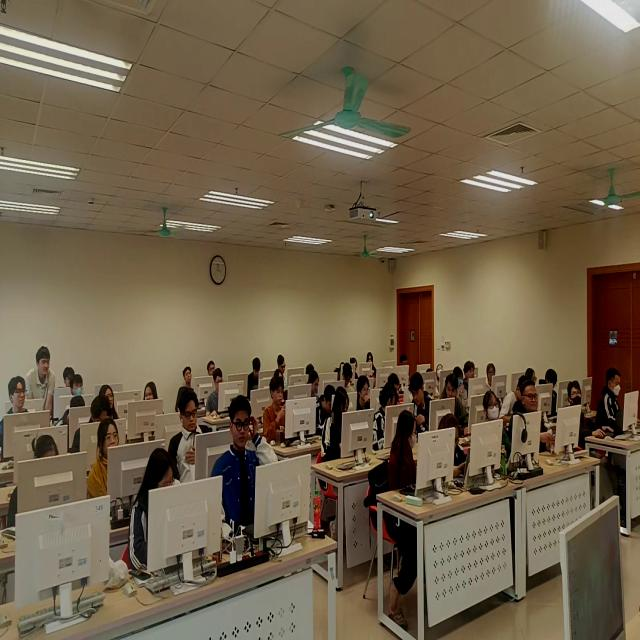raise_hand: (212, 396, 280, 542)
raise_head: (88, 420, 121, 499), (513, 380, 541, 456), (568, 381, 602, 443), (1, 377, 31, 447), (484, 392, 510, 461), (176, 367, 196, 412), (100, 385, 121, 420), (464, 360, 476, 393), (486, 364, 498, 393), (59, 368, 76, 388), (72, 374, 85, 397), (367, 353, 378, 377), (437, 365, 445, 384), (208, 362, 217, 377)
stand: (26, 347, 56, 419)
using_computer: (129, 448, 178, 575), (169, 390, 211, 487), (71, 397, 111, 456), (322, 387, 351, 464), (597, 368, 623, 429), (502, 377, 528, 426), (317, 384, 338, 439), (57, 397, 87, 429), (207, 368, 225, 418), (540, 370, 559, 416), (248, 358, 268, 401), (32, 434, 61, 461), (357, 376, 375, 413), (400, 354, 417, 387), (454, 367, 468, 407), (308, 371, 324, 399), (342, 364, 357, 393), (388, 373, 402, 403), (278, 355, 292, 380), (351, 358, 361, 381), (335, 362, 346, 382), (527, 367, 537, 384), (427, 369, 435, 374)
using_phone: (438, 414, 468, 480), (263, 377, 291, 446)
